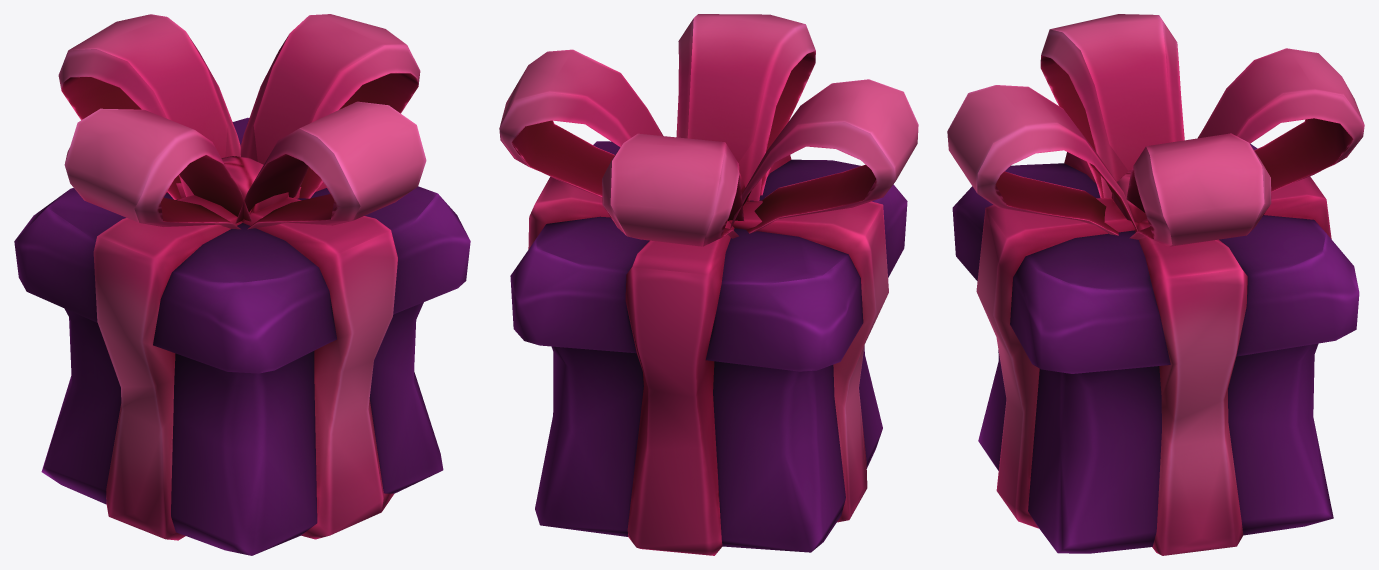
Rendered from present_03_LOD2.fbx.
3 renders of one model, left to right at view 1: azimuth 30°, elevation 25°; view 2: azimuth 150°, elevation 25°; view 3: azimuth 270°, elevation 25°, orthographic.
Parts seen in each view (by area): view 1: present_03; view 2: present_03; view 3: present_03.
Boxes of the visible parts, x1,y1,x2,y2 form: present_03: (14,14,470,555); present_03: (499,14,918,555); present_03: (947,14,1364,555).
Bounding box in the file's own units: 53.55 × 58.91 × 53.55.
Materials: 1 (1 with a texture image).
